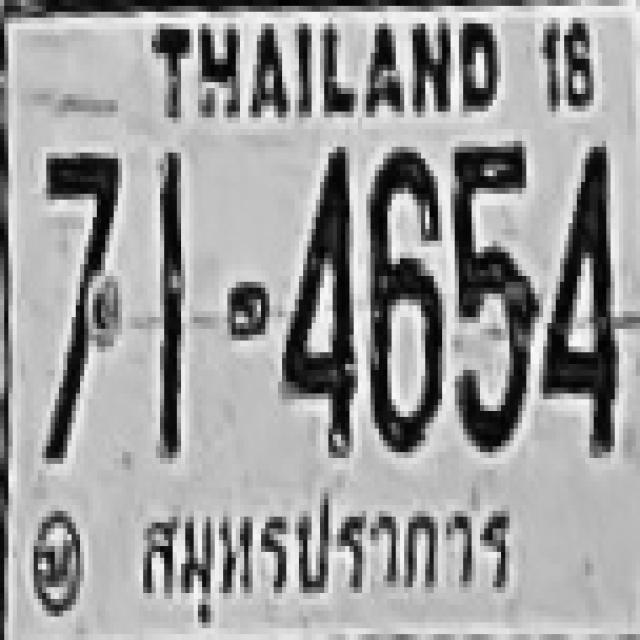1: (158, 152, 183, 422)
4: (539, 141, 615, 452), (278, 144, 354, 449)
5: (450, 138, 534, 449)
6: (368, 150, 440, 449)
7: (40, 156, 120, 461), (44, 153, 120, 358), (44, 153, 120, 334)
SamutPrakan: (137, 480, 517, 621)
